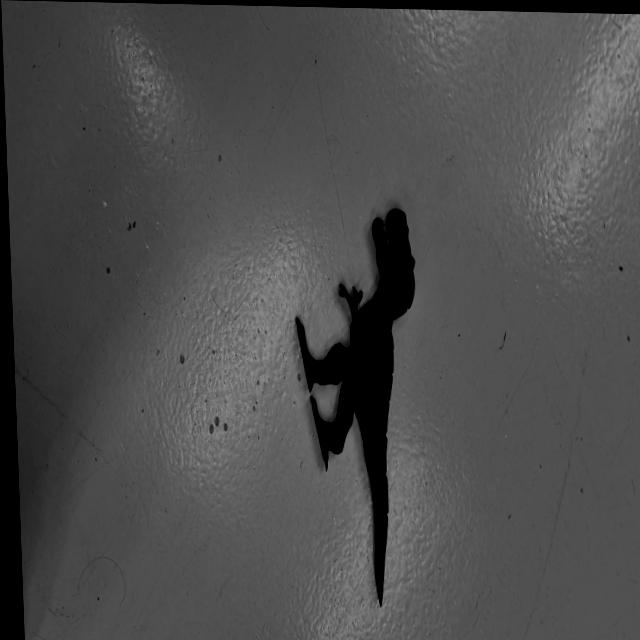dino: (289, 205, 428, 610)
